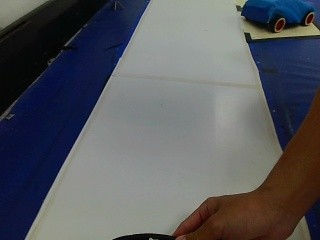car: (242, 0, 318, 36)
